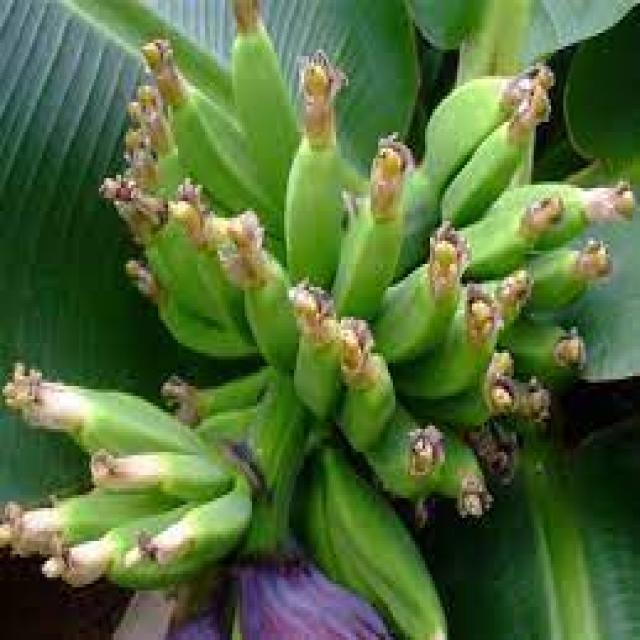banana: (0, 0, 635, 637), (14, 13, 593, 597)
